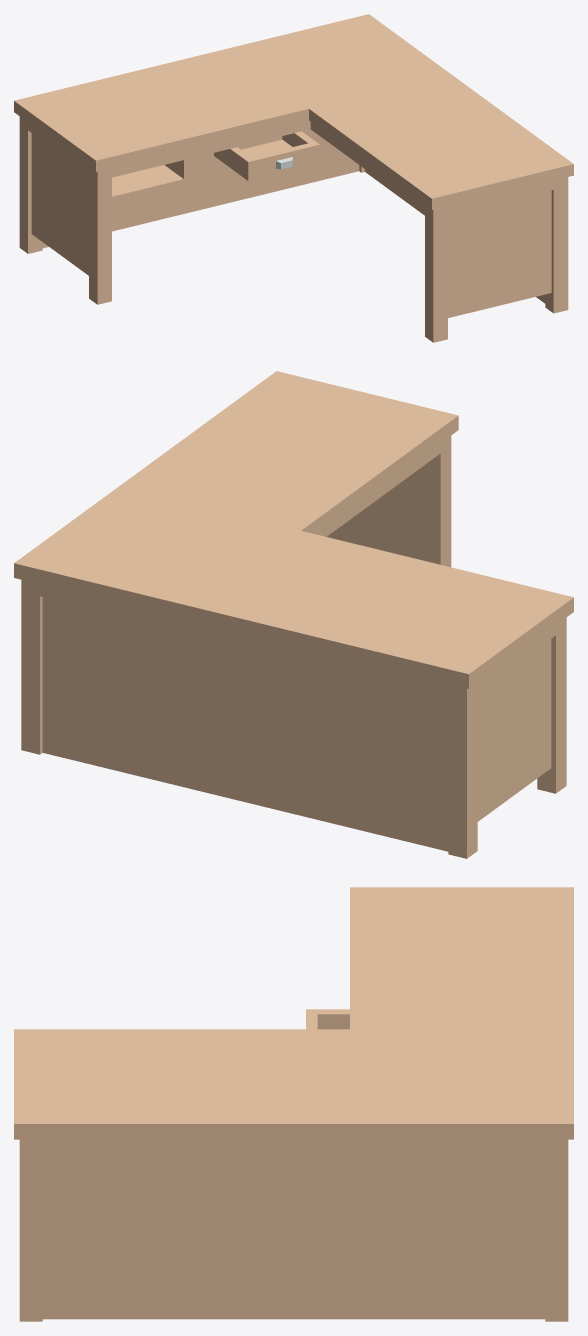
File: deskCorner.glb
The picture shows the model from 3 angles, top to bottom: view 1: azimuth 30°, elevation 25°; view 2: azimuth 150°, elevation 25°; view 3: azimuth 270°, elevation 25°; orthographic projection. The views are drawn at different scales.
Visible parts, largest first — view 1: deskCorner, deskCorner.001; view 2: deskCorner; view 3: deskCorner, deskCorner.001.
Boxes of the visible parts, x1,y1,x2,y2 form: deskCorner: (14, 14, 573, 342); deskCorner.001: (214, 131, 319, 180); deskCorner: (14, 371, 573, 858); deskCorner: (14, 887, 573, 1321); deskCorner.001: (306, 1009, 349, 1029).
Bounding box in the file's own units: 2.83 × 1.11 × 2.83.
